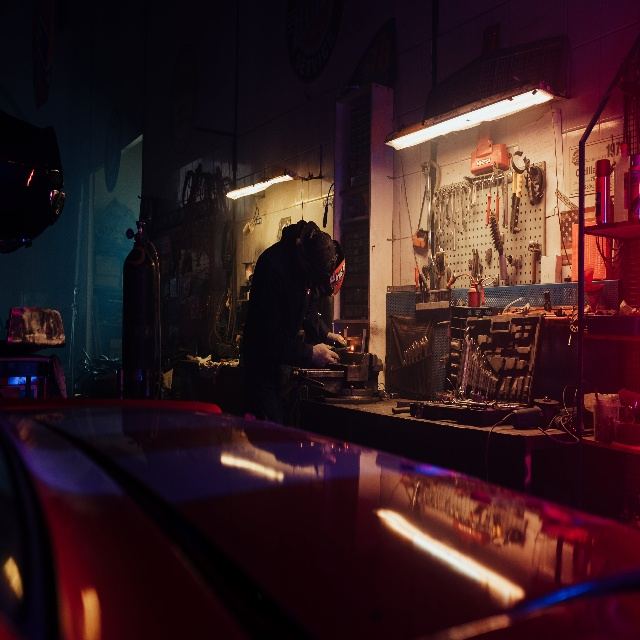Guantes: (312, 342, 339, 368), (327, 331, 347, 346)
